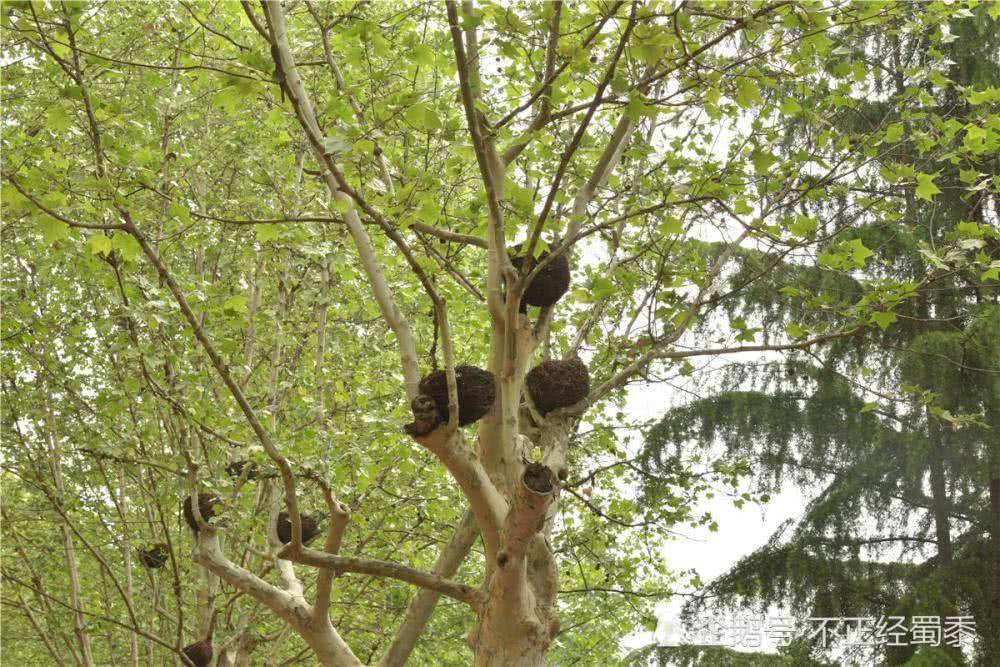bird-nest: (407, 357, 499, 429), (495, 236, 579, 308), (523, 355, 588, 411), (272, 511, 323, 550), (180, 493, 221, 532), (131, 536, 174, 569), (179, 637, 220, 666), (220, 458, 258, 482)
